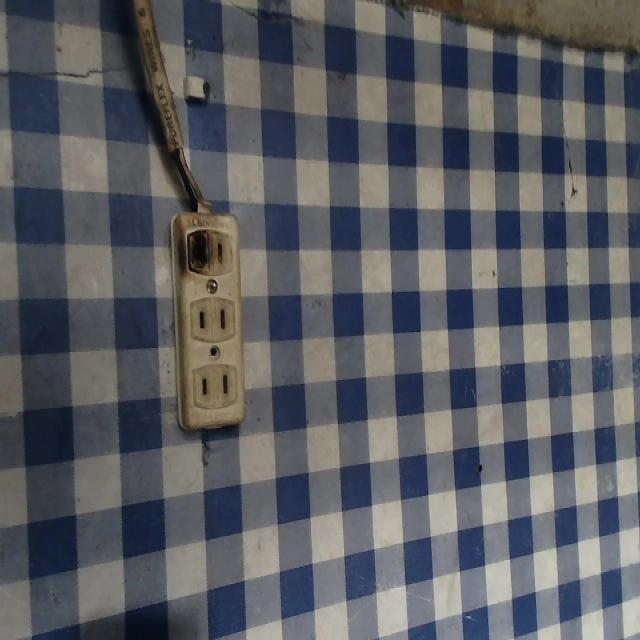-: (178, 220, 214, 271)
